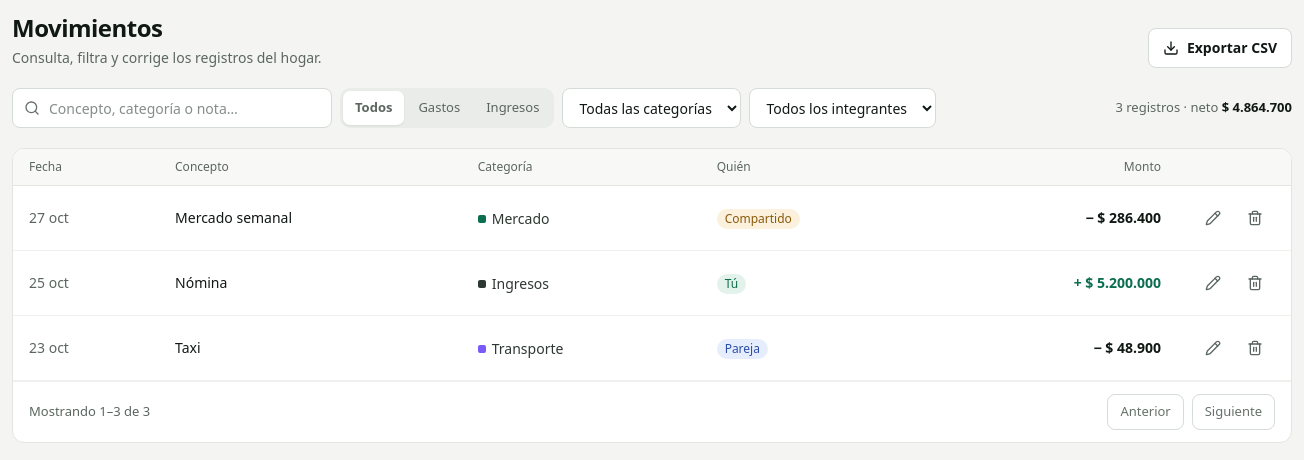
Test: TransactionsView › shows an empty state when nothing matches
In the search field named "Buscar movimientos": (172, 108) left=12, top=88, right=332, bottom=128, type "zzz"
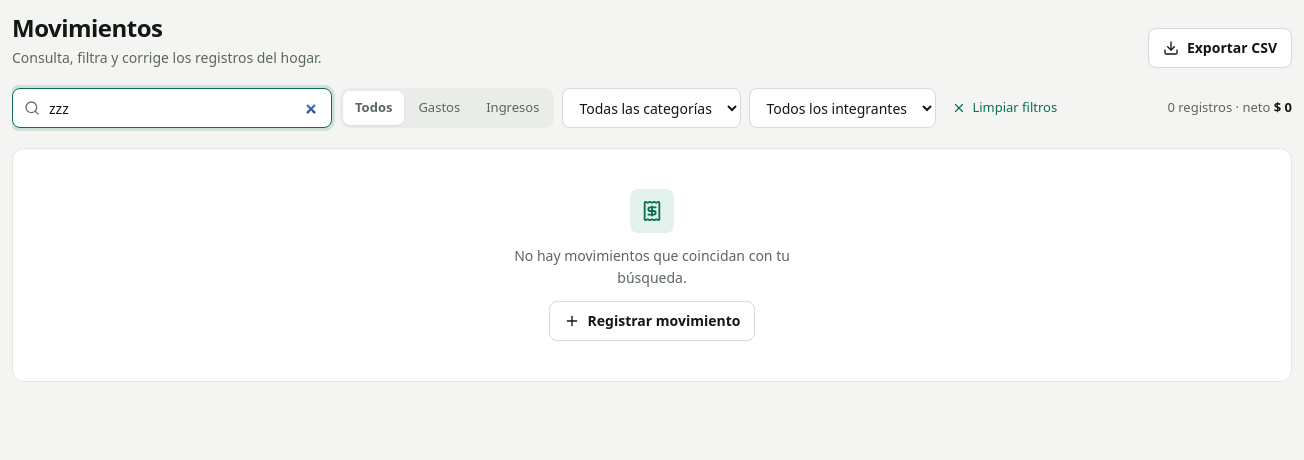
Now the table is gone
Now the text "No hay movimientos que coincidan con tu búsqueda." is shown, box left=492, top=245, right=812, bottom=289
